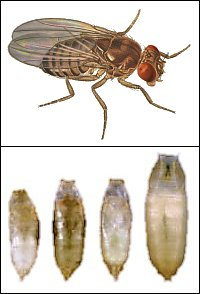phorid fly: (6, 6, 192, 140)
